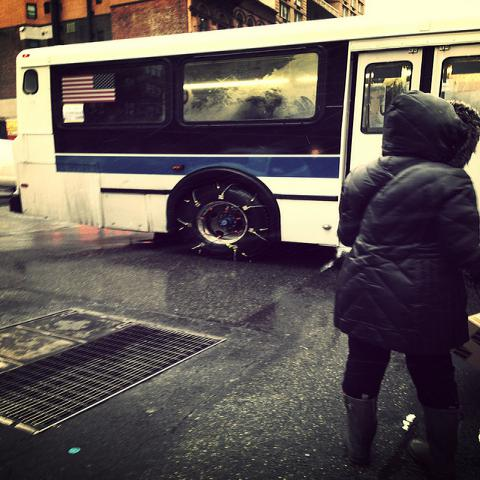bus: (10, 5, 479, 257)
